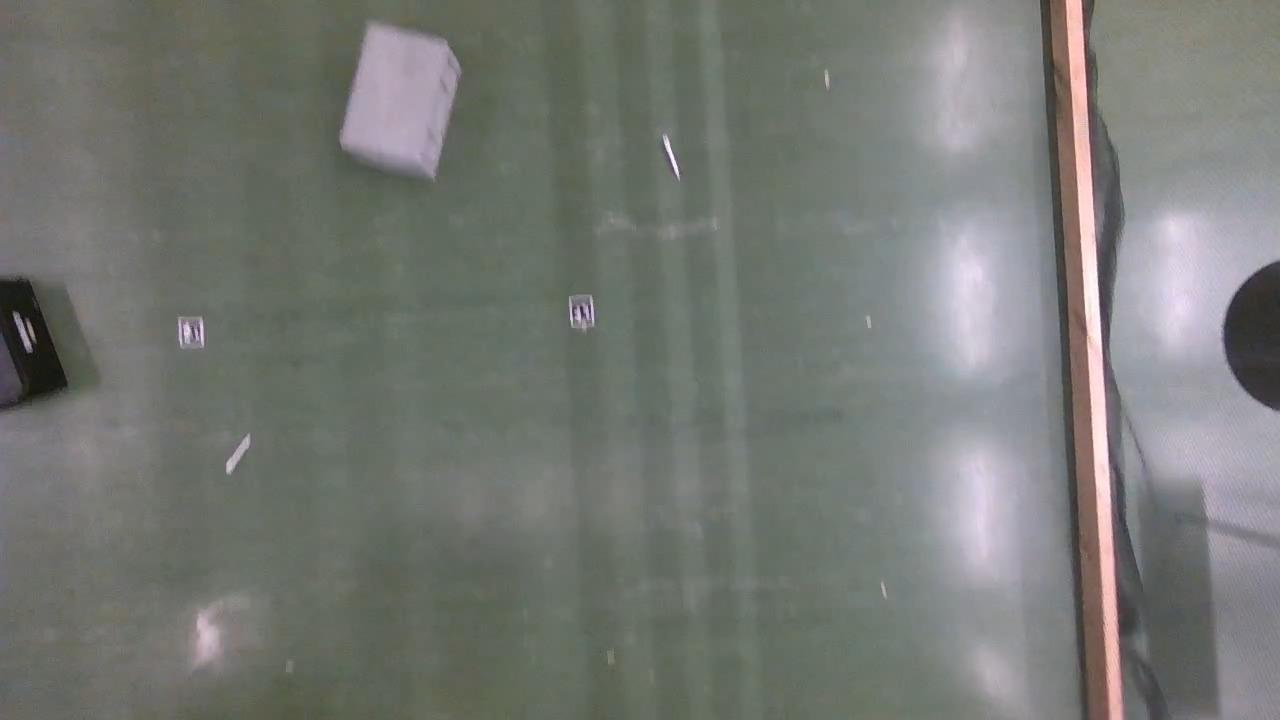probes: (225, 432, 251, 475), (661, 133, 680, 179)
rako: (338, 22, 463, 184)
